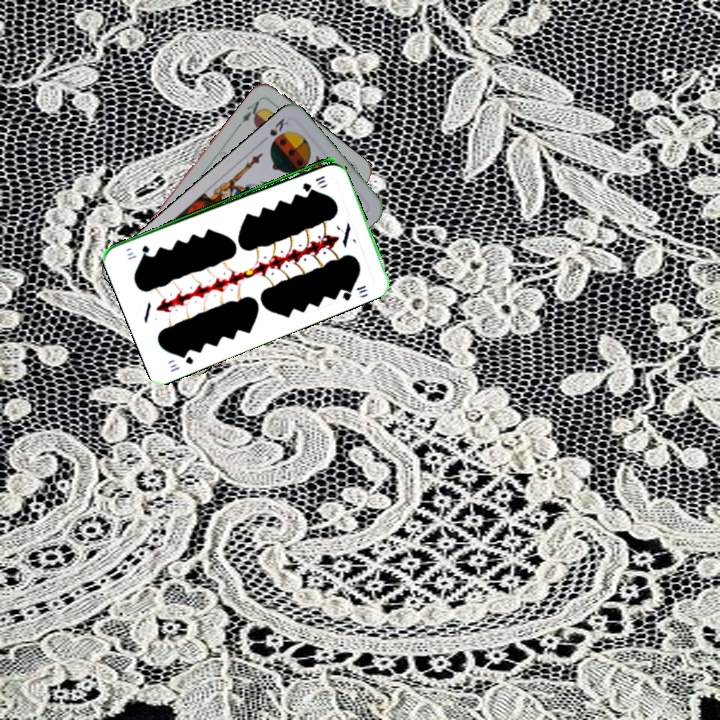EA: (234, 97, 266, 129)
G10: (166, 349, 196, 375), (298, 172, 327, 192)
SK: (265, 114, 291, 139)
